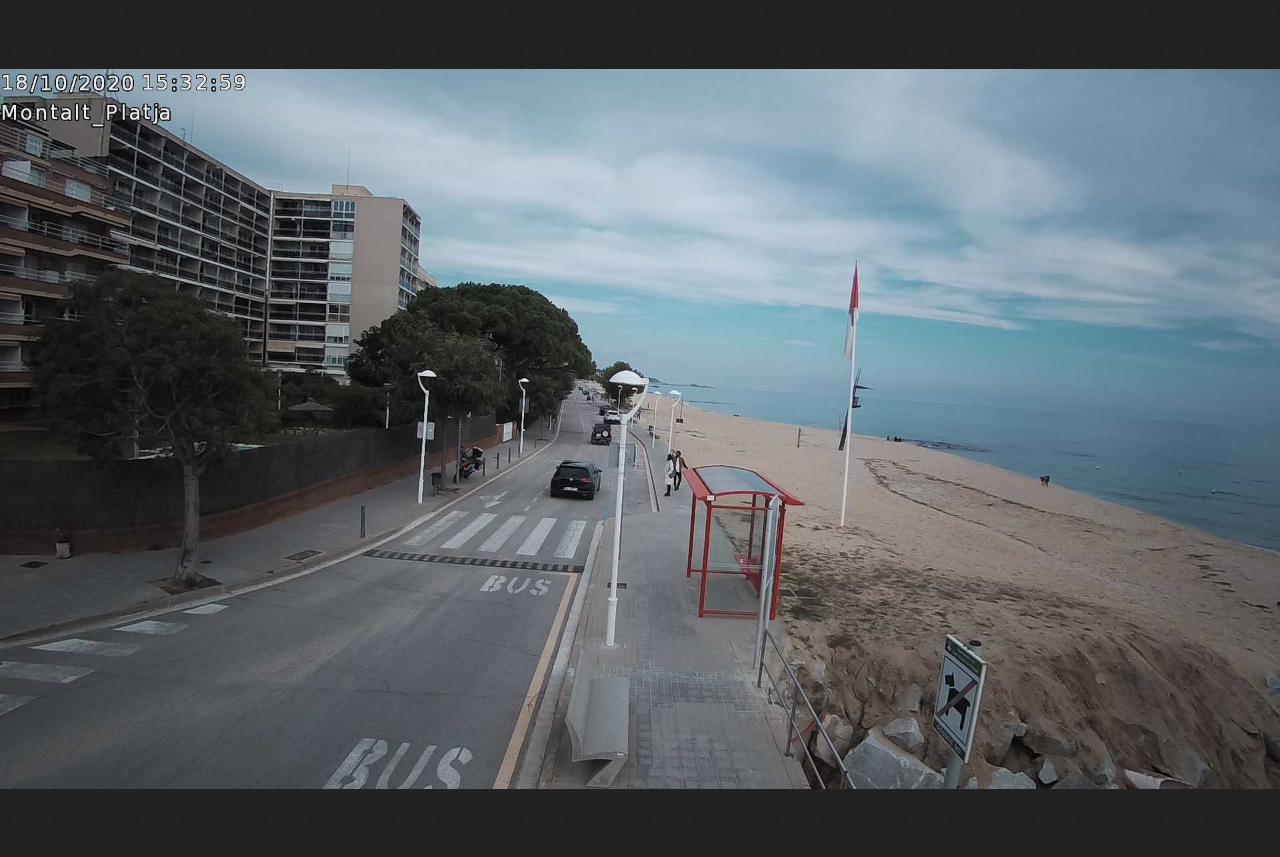no: (844, 258, 858, 365)
